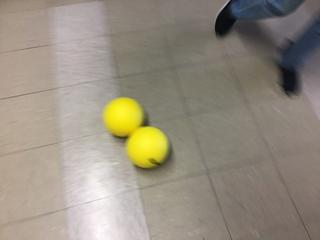power_cell: (126, 125, 171, 170), (103, 96, 145, 139)
